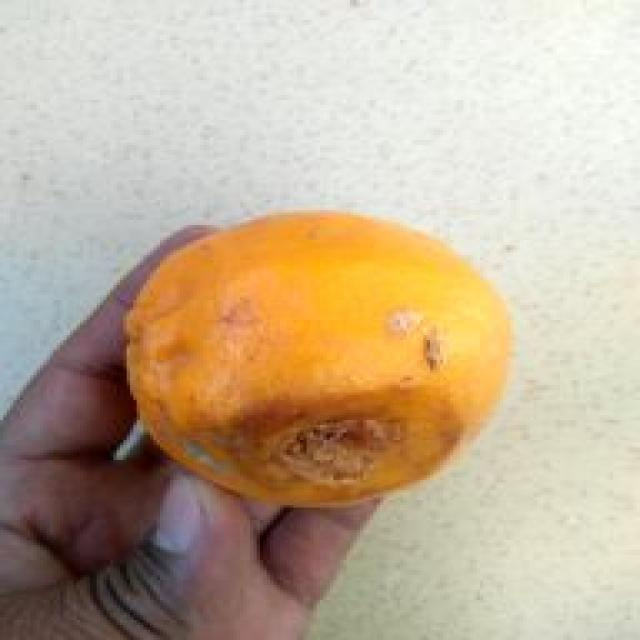Bad_Orange: (127, 211, 512, 506)
